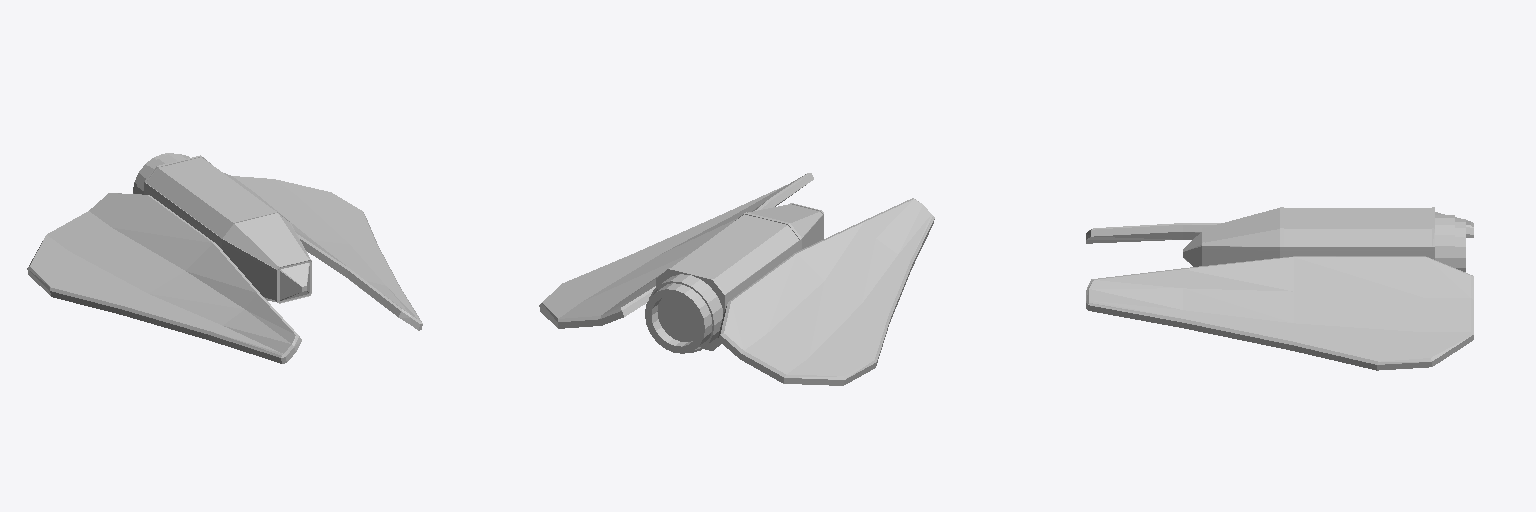
File: Player_Ship1.obj
The picture shows the model from 3 angles: view 1: azimuth 30°, elevation 25°; view 2: azimuth 150°, elevation 25°; view 3: azimuth 270°, elevation 25°; orthographic projection.
Parts seen in each view (by area): view 1: Player_Ship; view 2: Player_Ship; view 3: Player_Ship.
Boxes of the visible parts, box(x1,y1,x2,y2) form: Player_Ship: box(27, 153, 422, 363); Player_Ship: box(539, 173, 934, 385); Player_Ship: box(1086, 207, 1473, 370).
Size of the model in its own units: 9.67 by 2.25 by 10.31.